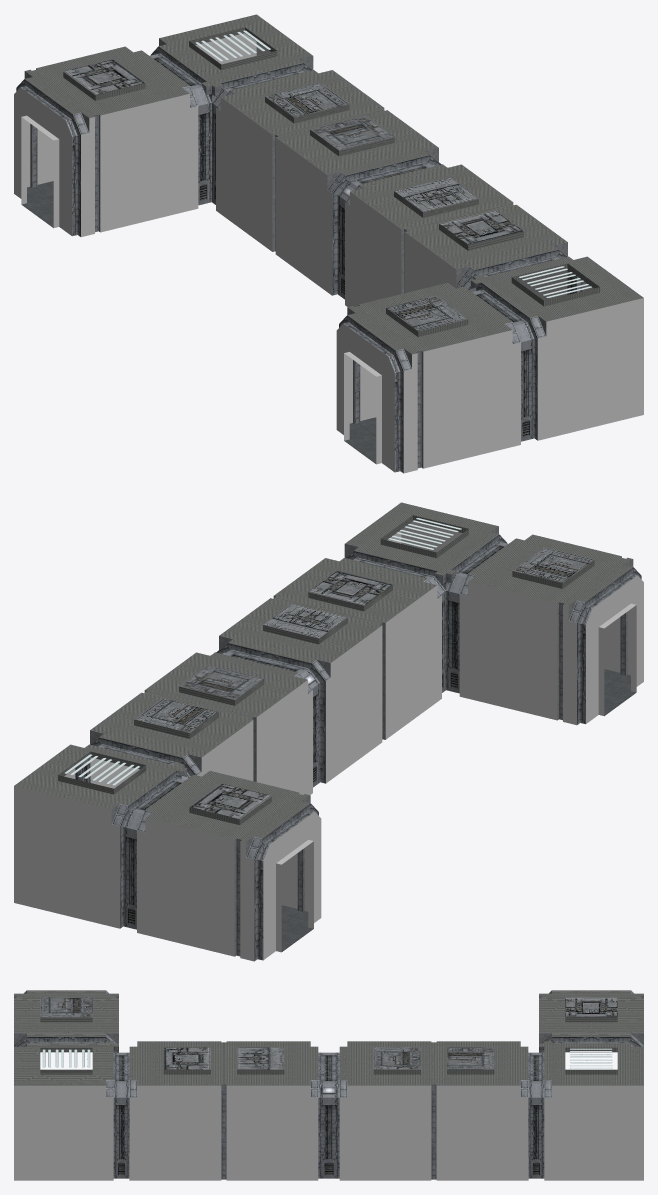
The model's file is poi_all_impl_bunker_warren_s01_r8_hall8_mesh_r8.fbx.
3 renders of one model, top to bottom at view 1: azimuth 30°, elevation 25°; view 2: azimuth 150°, elevation 25°; view 3: azimuth 270°, elevation 25°, orthographic. The views are drawn at different scales.
Parts seen in each view (by area): view 1: mesh_node; view 2: mesh_node; view 3: mesh_node.
Boxes of the visible parts, <box> form: mesh_node: <box>14,14,643,473</box>; mesh_node: <box>14,502,643,961</box>; mesh_node: <box>14,990,643,1180</box>.
Bounding box in the file's own units: 9 × 4.2 × 24.
